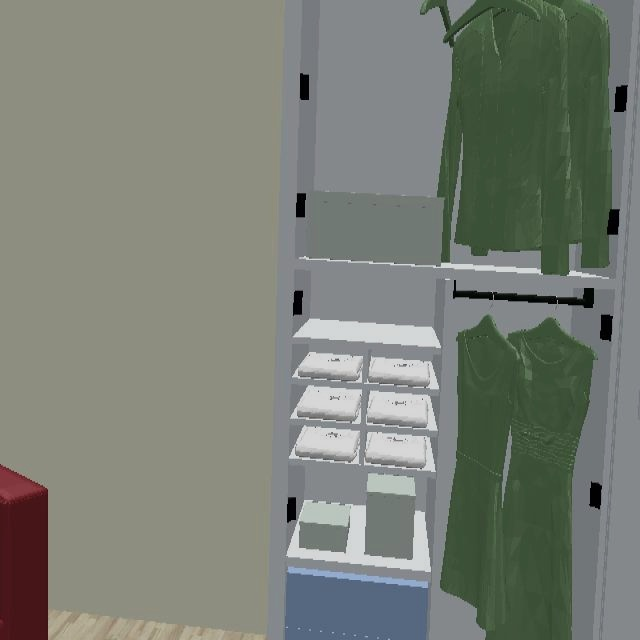sofa: (0, 465, 49, 640)
wardrobe: (266, 0, 640, 640)
